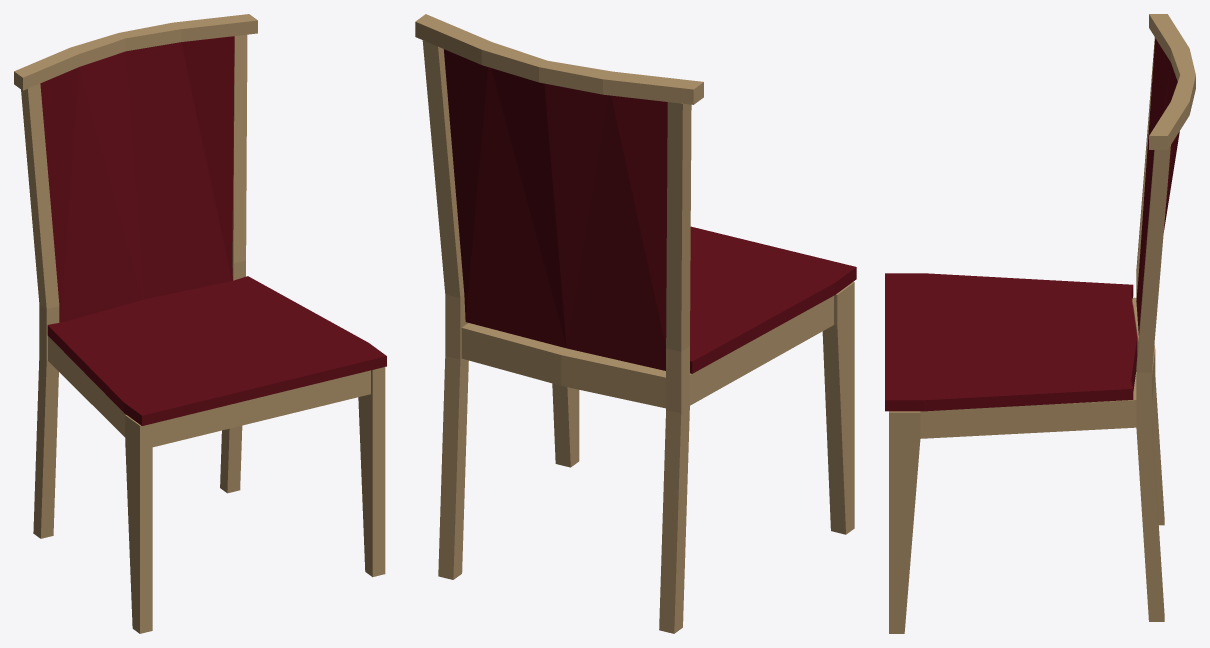
The model's file is chair_office_y.obj.
3 views of the same model, side by side, from view 1: azimuth 30°, elevation 25°; view 2: azimuth 150°, elevation 25°; view 3: azimuth 270°, elevation 25° (orthographic). The views are drawn at different scales.
Visible parts, largest first — view 1: 2_2, 1_1, 3_3; view 2: 2_2, 1_1, 3_3; view 3: 3_3, 1_1, 2_2.
Part boxes in pixels (x1,y1,x2,y2): 2_2: (40, 36, 234, 322); 1_1: (14, 14, 385, 633); 3_3: (47, 276, 386, 425); 2_2: (443, 49, 667, 370); 1_1: (415, 14, 854, 633); 3_3: (690, 226, 856, 373); 3_3: (885, 273, 1137, 411); 1_1: (889, 14, 1195, 633); 2_2: (1136, 38, 1179, 335).
Bounding box in the file's own units: 48 × 87 × 49.5.
